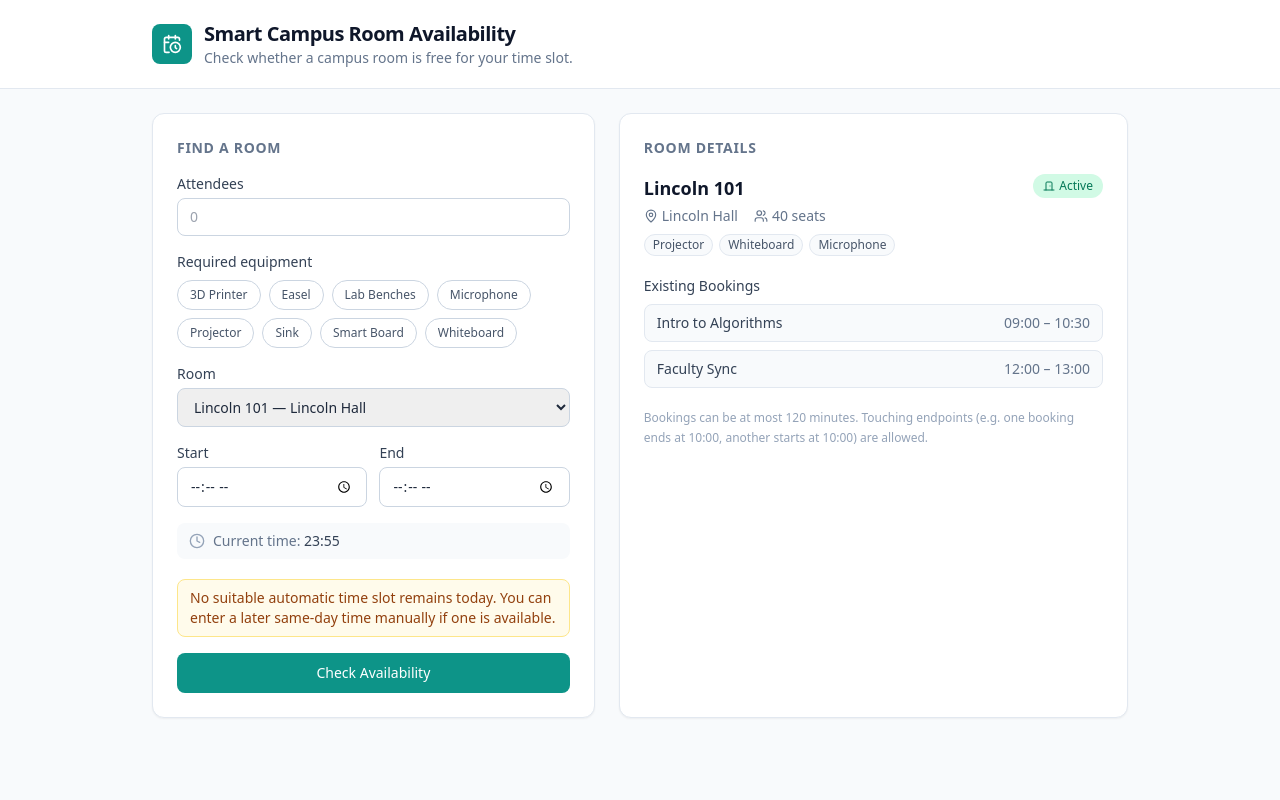
Test: RoomChecker UI — late-night default times (R2) › R2-23:55: shows no automatic default, but permits a valid manual minute-level slot
Expected: the 2nd time field is empty, [379,467,570,507]
Expected: the message shows "No suitable automatic time slot", [190,588,555,627]
Type "23:56" into the 1st time field at (272, 487), box [177,467,367,507]
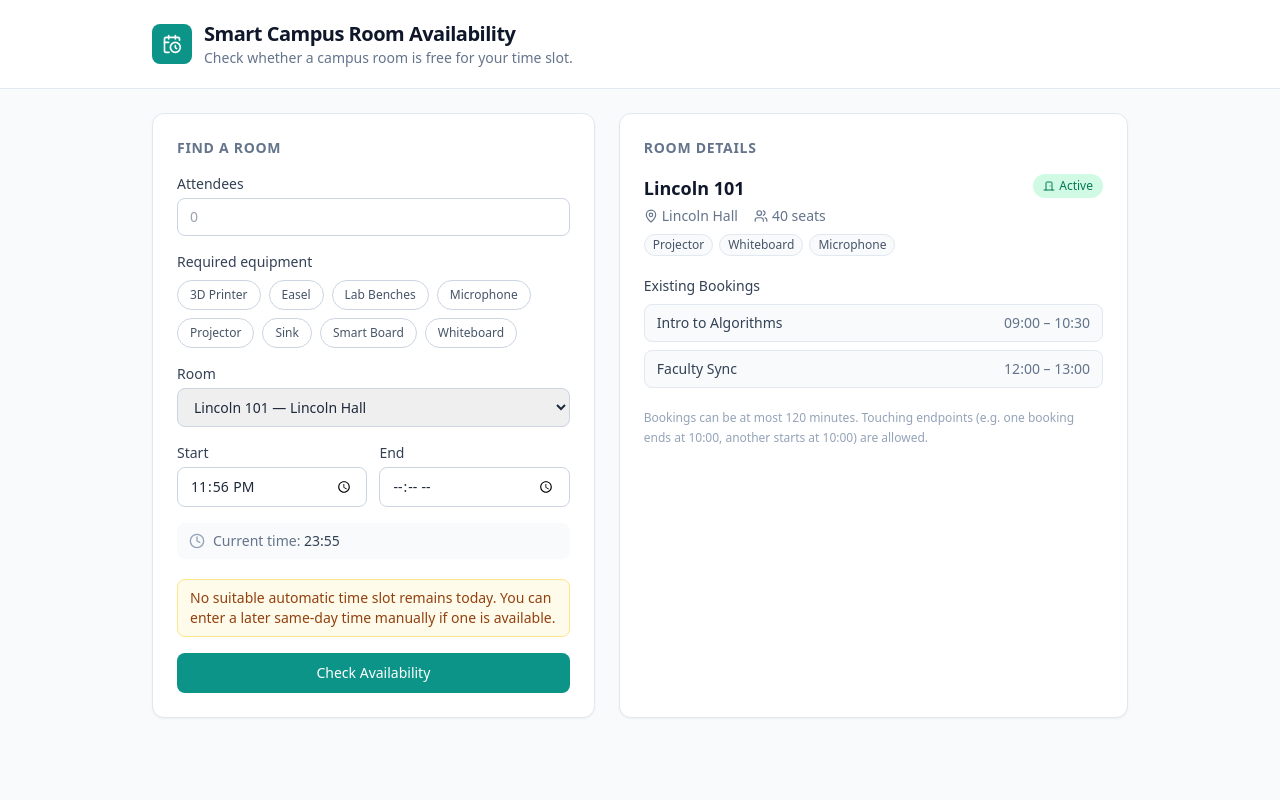
Type "23:59" into the 2nd time field at (475, 487), box [379,467,570,507]
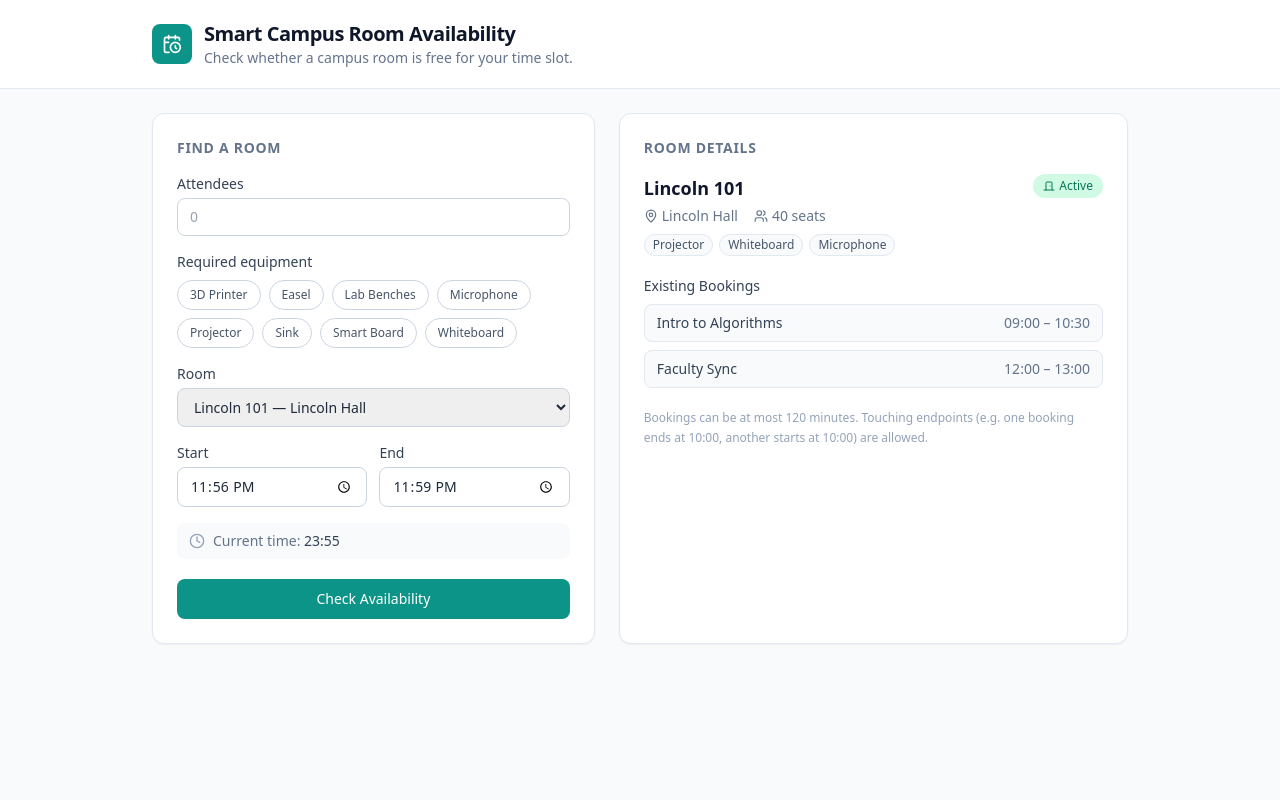
Click the button "Check Availability" at (373, 599), box [177,579,570,619]
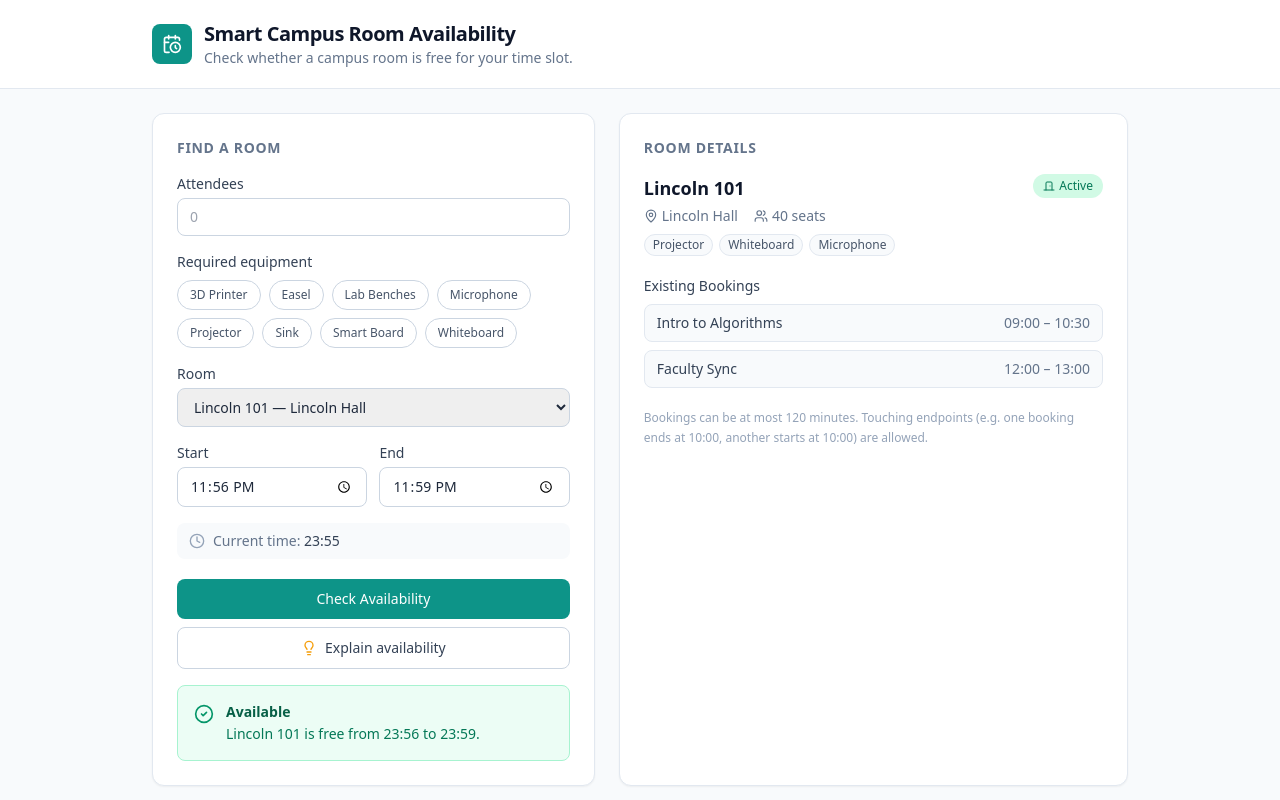
Expected: the text "Lincoln 101 is free from 23:56 to 23:59." is shown, [226,724,480,744]
